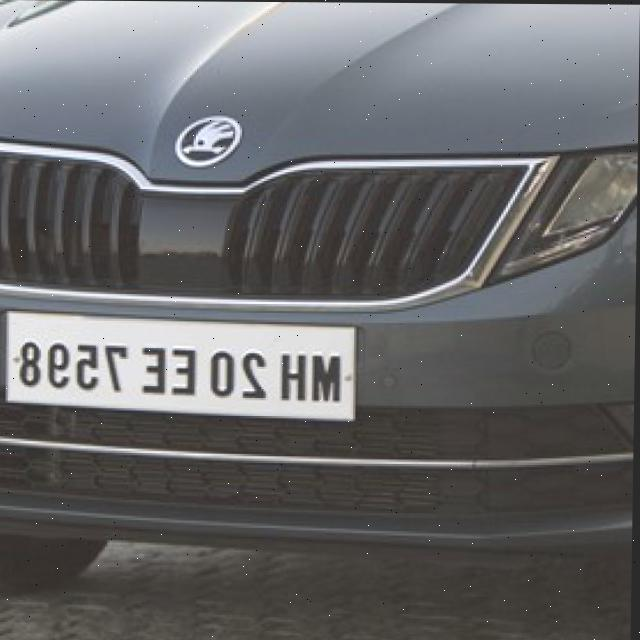plate: (3, 313, 359, 417)
